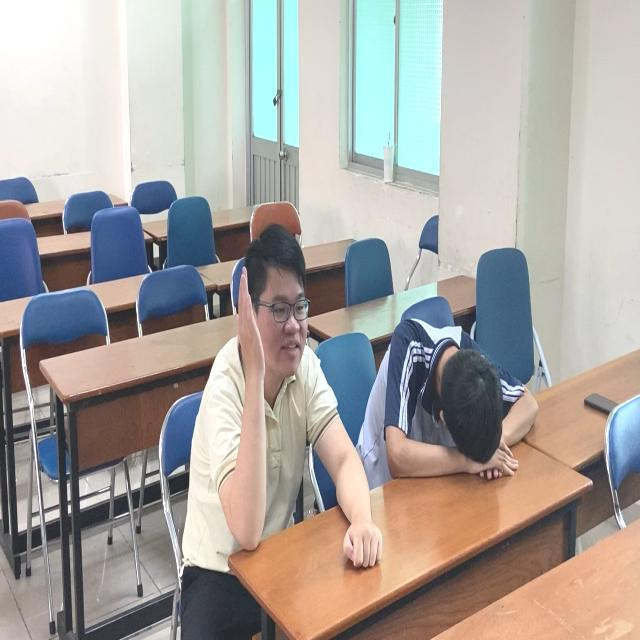raise_hand: (198, 225, 335, 562)
sleep: (366, 303, 542, 511)
